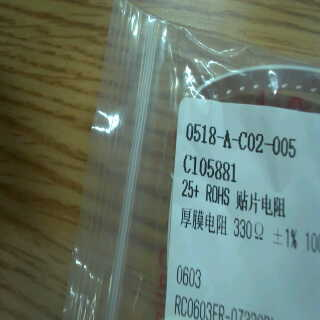330R: (232, 216, 267, 245)
